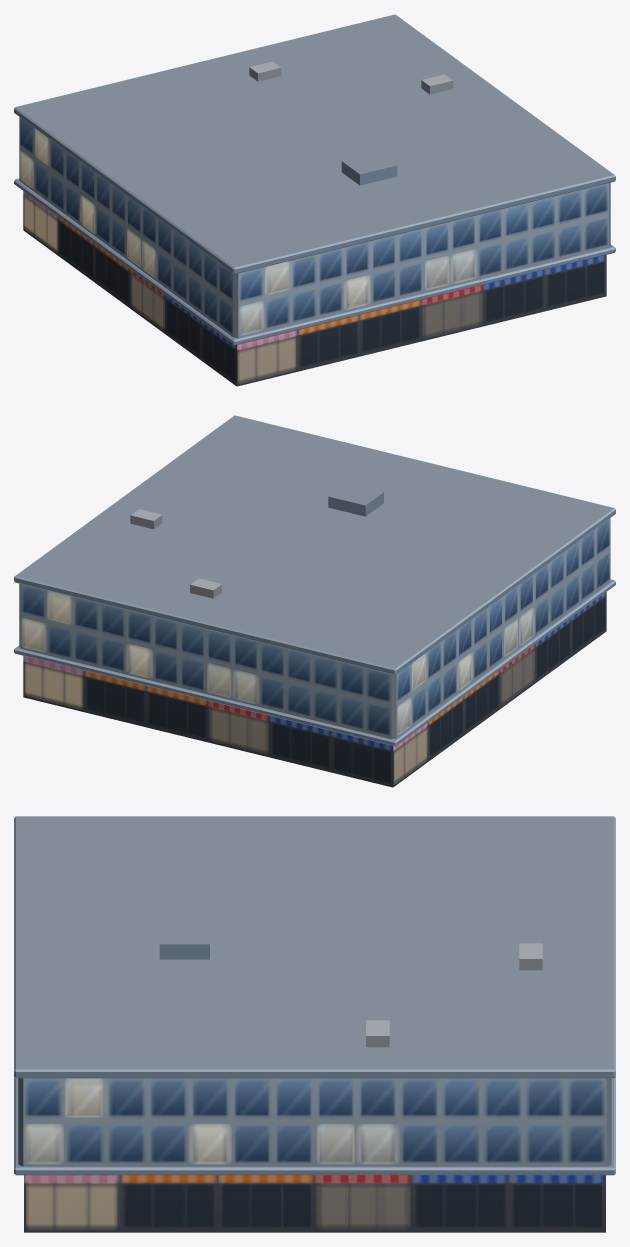
File: building-36x36x12.glb
The picture shows the model from 3 angles, top to bottom: view 1: azimuth 30°, elevation 25°; view 2: azimuth 150°, elevation 25°; view 3: azimuth 270°, elevation 25°; orthographic projection. The views are drawn at different scales.
Parts seen in each view (by area): view 1: building-36x36x12; view 2: building-36x36x12; view 3: building-36x36x12.
Boxes of the visible parts, bbox=[...] form: building-36x36x12: bbox=[14, 14, 615, 386]; building-36x36x12: bbox=[14, 415, 615, 787]; building-36x36x12: bbox=[14, 816, 615, 1232].
Size of the model in its own units: 36 by 12 by 36.
Materials: 1 (1 with a texture image).
